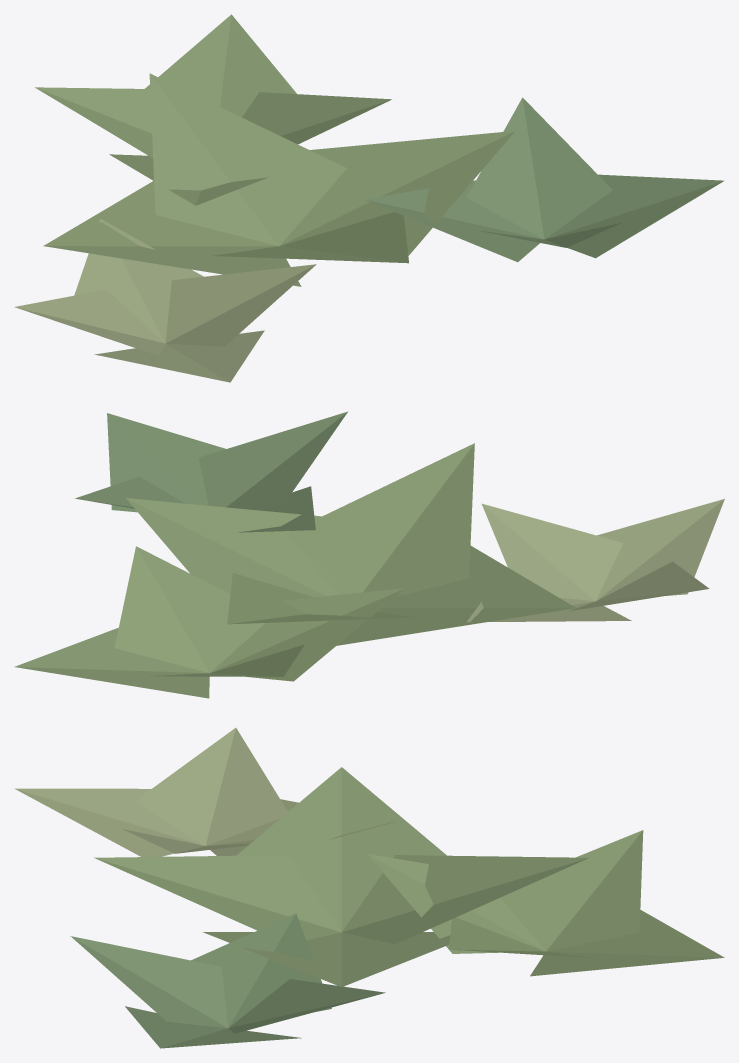
File: veg_alpine_cushion.glb
The picture shows the model from 3 angles, top to bottom: view 1: azimuth 30°, elevation 25°; view 2: azimuth 150°, elevation 25°; view 3: azimuth 270°, elevation 25°; orthographic projection. The views are drawn at different scales.
Parts seen in each view (by area): view 1: clump_0, clump_2, clump_1, clump_3; view 2: clump_0, clump_3, clump_1, clump_2; view 3: clump_0, clump_3, clump_2, clump_1.
Boxes of the visible parts, bbox=[...] form: clump_0: bbox=[43, 73, 514, 286]; clump_2: bbox=[364, 97, 724, 262]; clump_1: bbox=[14, 219, 316, 382]; clump_3: bbox=[35, 14, 391, 205]; clump_0: bbox=[126, 443, 575, 645]; clump_3: bbox=[14, 546, 405, 698]; clump_1: bbox=[466, 499, 724, 622]; clump_2: bbox=[75, 411, 347, 532]; clump_0: bbox=[94, 767, 589, 987]; clump_3: bbox=[367, 830, 724, 976]; clump_2: bbox=[70, 913, 385, 1048]; clump_1: bbox=[15, 728, 396, 856].
Bounding box in the file's own units: 0.6528 × 0.0726 × 0.6267.
